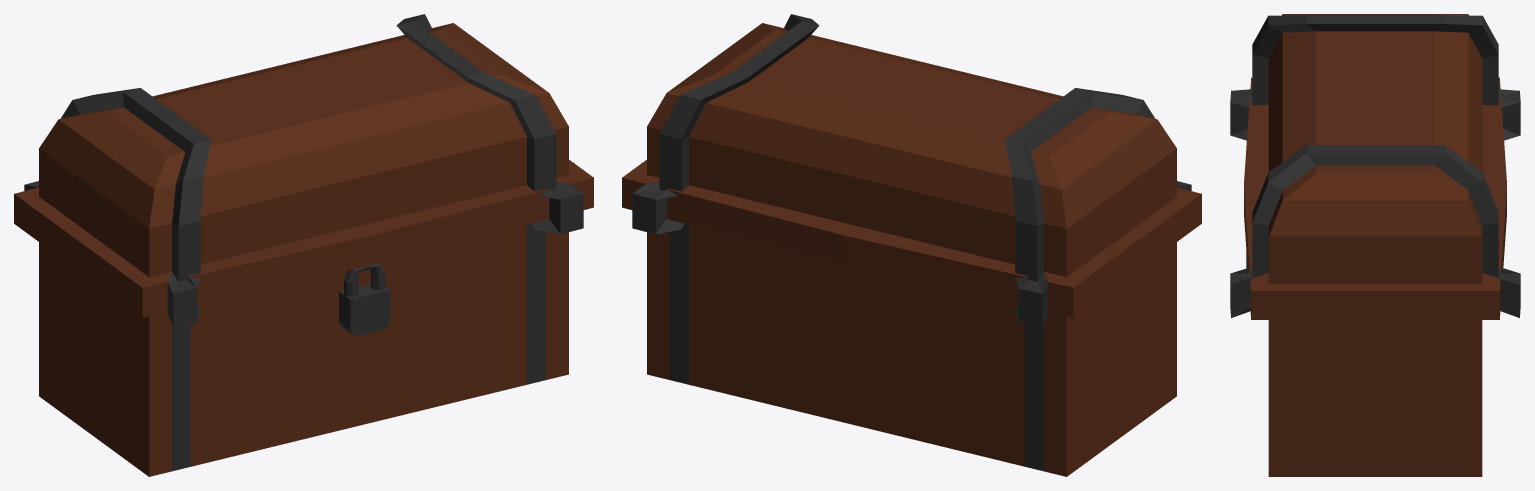
The model's file is Chest.fbx.
3 views of the same model, side by side, from view 1: azimuth 30°, elevation 25°; view 2: azimuth 150°, elevation 25°; view 3: azimuth 270°, elevation 25° (orthographic). The views are drawn at different scales.
Visible parts, largest first — view 1: Cube; view 2: Cube; view 3: Cube.
Boxes of the visible parts, x1,y1,x2,y2 form: Cube: (14, 14, 593, 476); Cube: (622, 14, 1201, 476); Cube: (1230, 14, 1520, 476).
Size of the model in its own units: 473 by 303 by 272.
